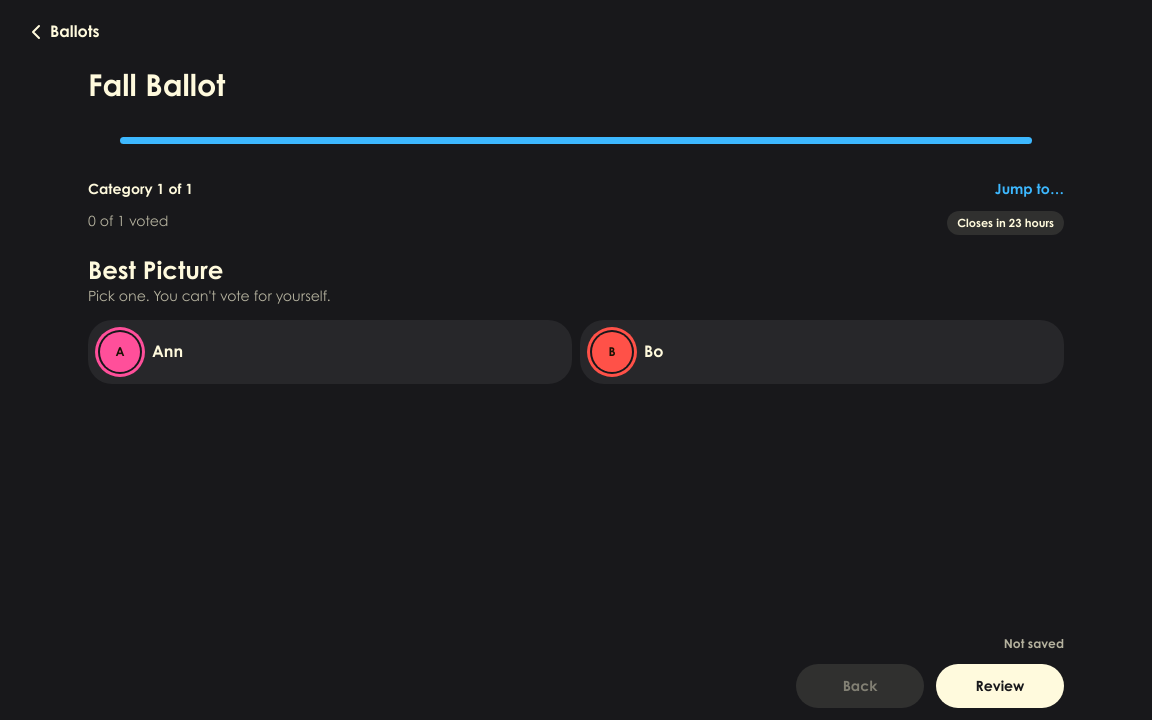
Test: expired session while voting (P1-5) › says you were signed out and offers Log in, not a retry that cannot work
Click the radio button labelled "A Ann".
click(120, 352)  # box [88,320,572,384]
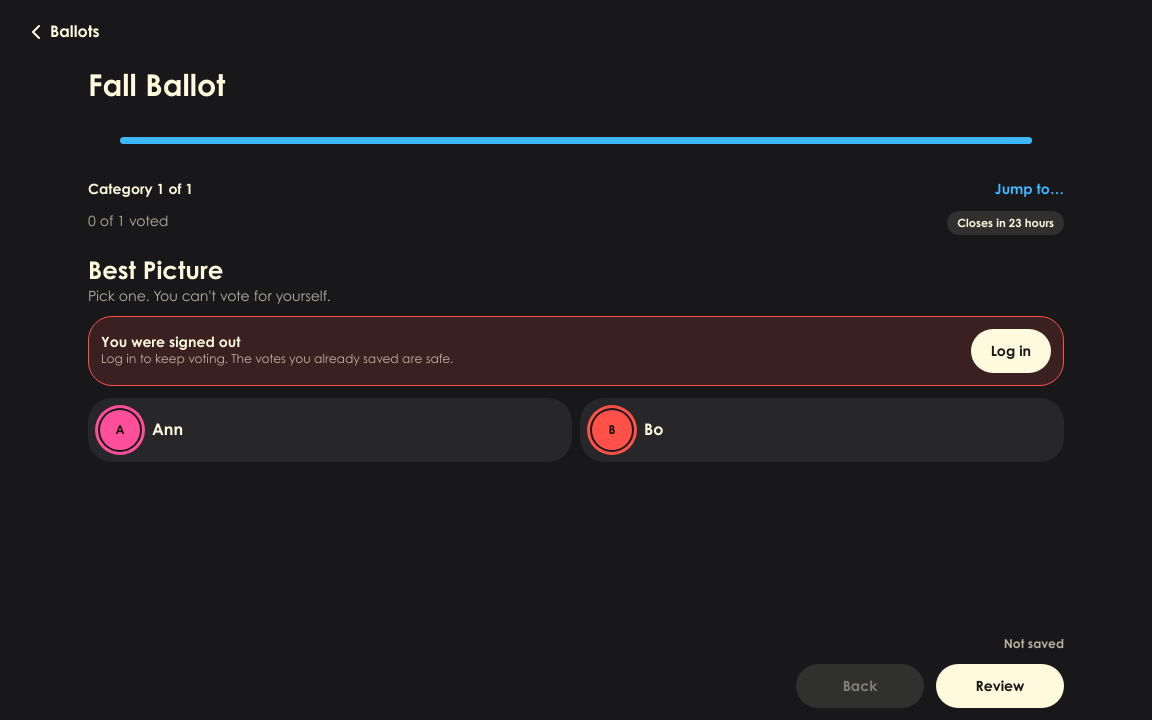
Expected: the message shows "You were signed out", [101,333,240,350]
Expected: the button "Log in" is shown, [971,329,1051,373]
